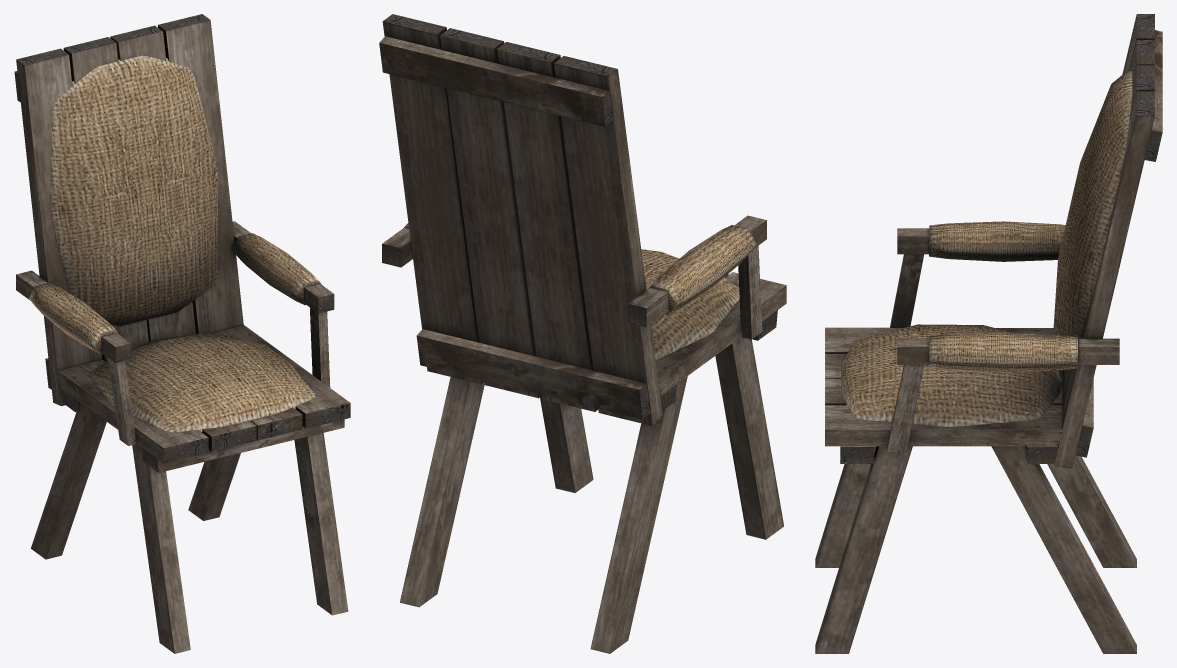
The model's file is Armchair.dae.
3 renders of one model, left to right at view 1: azimuth 30°, elevation 25°; view 2: azimuth 150°, elevation 25°; view 3: azimuth 270°, elevation 25°, orthographic. The views are drawn at different scales.
Visible parts, largest first — view 1: Armchair; view 2: Armchair; view 3: Armchair.
Part boxes in pixels (<box>): Armchair: <box>14,14,350,653</box>; Armchair: <box>379,14,786,653</box>; Armchair: <box>815,14,1162,653</box>.
Size of the model in its own units: 0.6501 by 1.26 by 0.7334.
1 material, 1 textured.
